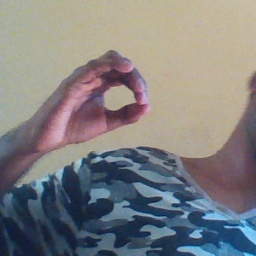O: (31, 48, 156, 148)
